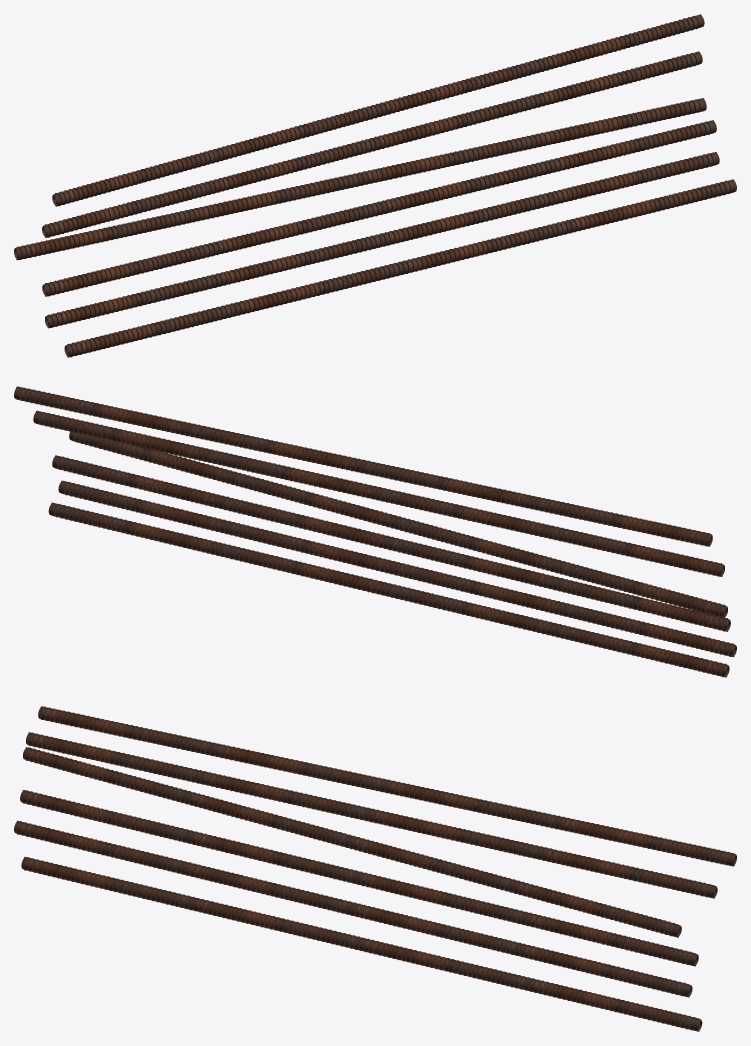
File: EST-ACO-005_anim.glb
3 views of the same model, one above another, from view 1: azimuth 30°, elevation 25°; view 2: azimuth 150°, elevation 25°; view 3: azimuth 330°, elevation 25° (orthographic).
Visible parts, largest first — view 1: EST-ACO-005_anim3, EST-ACO-005_anim2, EST-ACO-005_anim1, EST-ACO-005_anim0, EST-ACO-005_anim4, EST-ACO-005_anim5; view 2: EST-ACO-005_anim5, EST-ACO-005_anim4, EST-ACO-005_anim0, EST-ACO-005_anim1, EST-ACO-005_anim2, EST-ACO-005_anim3; view 3: EST-ACO-005_anim5, EST-ACO-005_anim4, EST-ACO-005_anim0, EST-ACO-005_anim1, EST-ACO-005_anim2, EST-ACO-005_anim3.
Boxes of the visible parts, x1,y1,x2,y2 form: EST-ACO-005_anim3: [14, 98, 706, 260]; EST-ACO-005_anim2: [42, 120, 716, 296]; EST-ACO-005_anim1: [45, 152, 719, 328]; EST-ACO-005_anim0: [64, 179, 736, 357]; EST-ACO-005_anim4: [42, 51, 702, 237]; EST-ACO-005_anim5: [52, 14, 704, 206]; EST-ACO-005_anim5: [14, 386, 712, 546]; EST-ACO-005_anim4: [33, 410, 724, 576]; EST-ACO-005_anim0: [48, 502, 729, 677]; EST-ACO-005_anim1: [58, 480, 736, 657]; EST-ACO-005_anim2: [52, 455, 730, 631]; EST-ACO-005_anim3: [69, 431, 727, 618]; EST-ACO-005_anim5: [38, 706, 736, 866]; EST-ACO-005_anim4: [26, 732, 717, 898]; EST-ACO-005_anim0: [21, 857, 702, 1031]; EST-ACO-005_anim1: [14, 820, 692, 997]; EST-ACO-005_anim2: [20, 790, 698, 966]; EST-ACO-005_anim3: [23, 747, 681, 937].
Size of the model in its own units: 1.04 by 0.2179 by 0.1119.
Materials: 1 (1 with a texture image).
